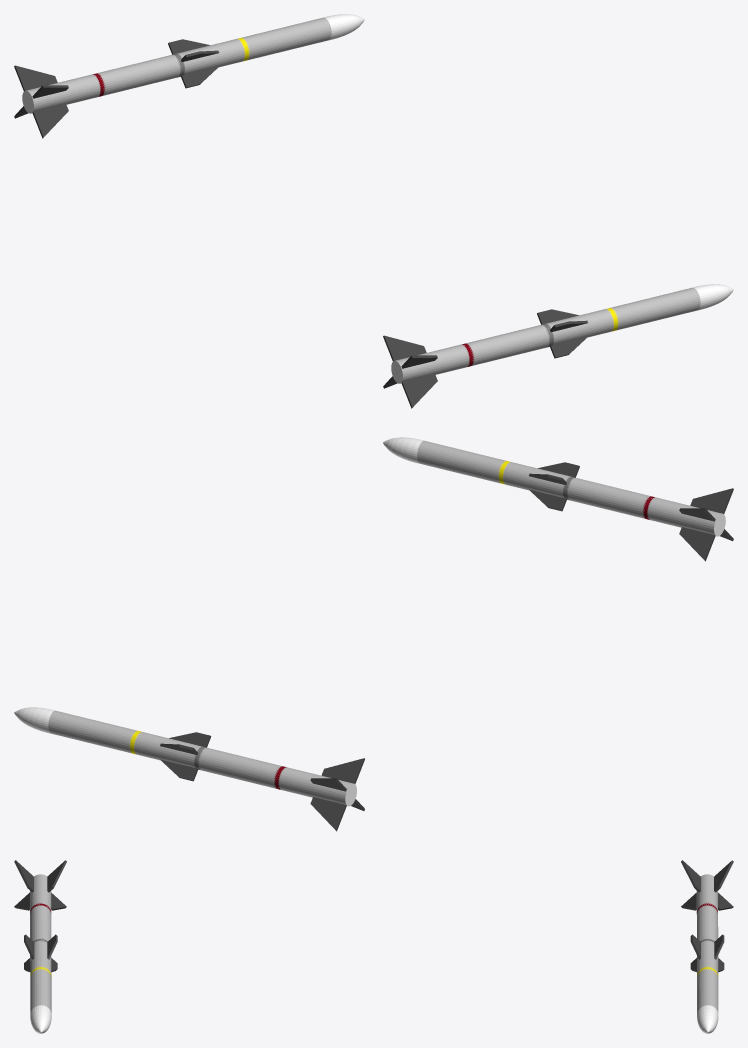
Rendered from aam4lf2a25.glb.
The picture shows the model from 3 angles, top to bottom: view 1: azimuth 30°, elevation 25°; view 2: azimuth 150°, elevation 25°; view 3: azimuth 270°, elevation 25°; orthographic projection. The views are drawn at different scales.
Parts seen in each view (by area): view 1: 球.001, 球.002; view 2: 球.001, 球.002; view 3: 球.002, 球.001.
Part boxes in pixels (bbox=[...]): 球.001: bbox=[14, 14, 364, 138]; 球.002: bbox=[383, 284, 733, 408]; 球.001: bbox=[14, 707, 364, 831]; 球.002: bbox=[383, 437, 733, 561]; 球.002: bbox=[14, 860, 66, 1033]; 球.001: bbox=[681, 860, 733, 1033].
Size of the model in its own units: 4.82 by 0.7293 by 9.86.
Materials: 3 (1 with a texture image).
